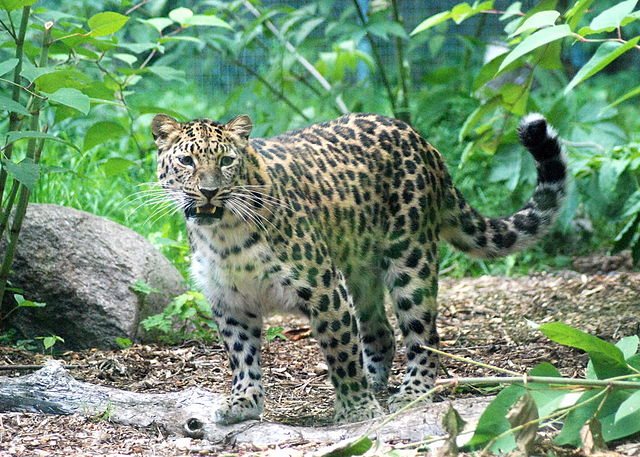amur_leopard: (139, 90, 573, 422)
